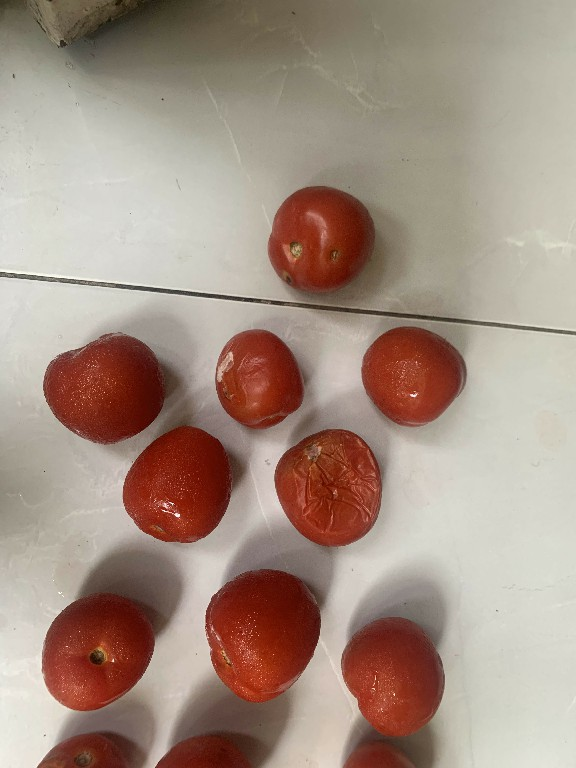NG: (253, 179, 382, 300), (270, 422, 390, 548), (204, 323, 308, 429)
OK: (31, 319, 169, 454), (193, 564, 327, 703), (25, 584, 157, 719), (116, 415, 237, 556), (332, 614, 451, 740), (351, 319, 473, 433)
